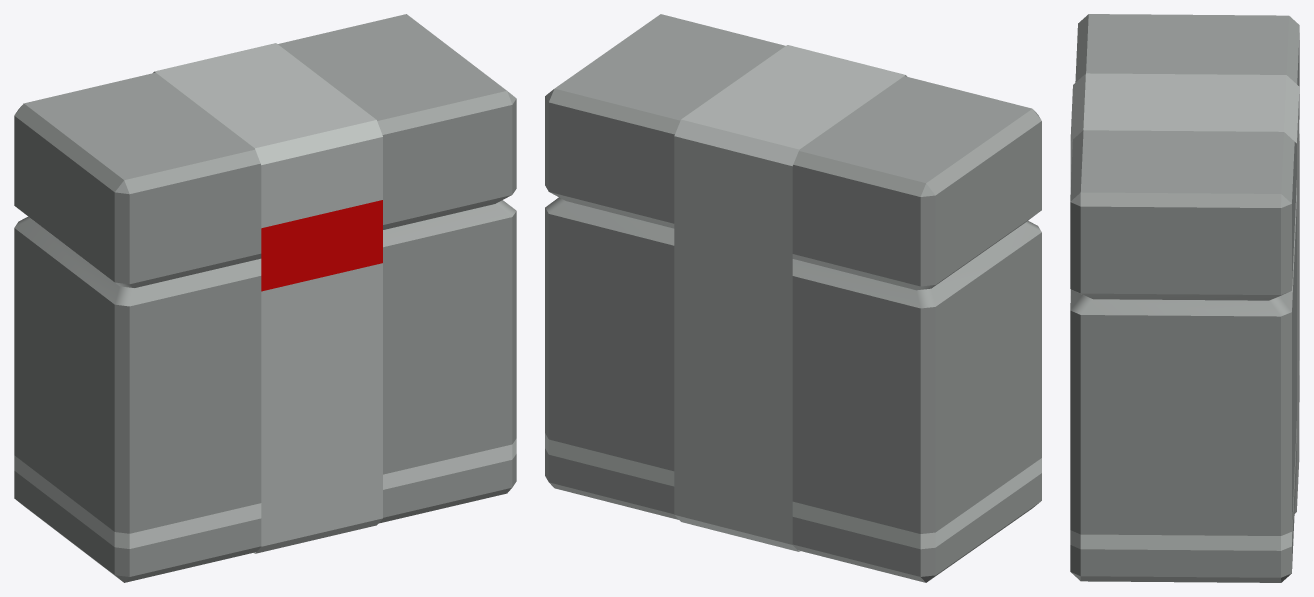
3 renders of one model, left to right at view 1: azimuth 30°, elevation 25°; view 2: azimuth 150°, elevation 25°; view 3: azimuth 270°, elevation 25°, orthographic. The views are drawn at different scales.
Visible parts, largest first — view 1: G:\FFXIV-MapTools\exports\x6f2\bg\ex5\01_xkt_x6\fld\x6f2\bgp (×3); view 2: G:\FFXIV-MapTools\exports\x6f2\bg\ex5\01_xkt_x6\fld\x6f2\bgp (×3); view 3: G:\FFXIV-MapTools\exports\x6f2\bg\ex5\01_xkt_x6\fld\x6f2\bgp (×3).
Part boxes in pixels (x1=…): G:\FFXIV-MapTools\exports\x6f2\bg\ex5\01_xkt_x6\fld\x6f2\bgp (×3): x1=14, y1=14, x2=516, y2=582; G:\FFXIV-MapTools\exports\x6f2\bg\ex5\01_xkt_x6\fld\x6f2\bgp (×3): x1=545, y1=14, x2=1041, y2=582; G:\FFXIV-MapTools\exports\x6f2\bg\ex5\01_xkt_x6\fld\x6f2\bgp (×3): x1=1070, y1=14, x2=1299, y2=582.
Size of the model in its own units: 0.5039 by 0.487 by 0.2588.
